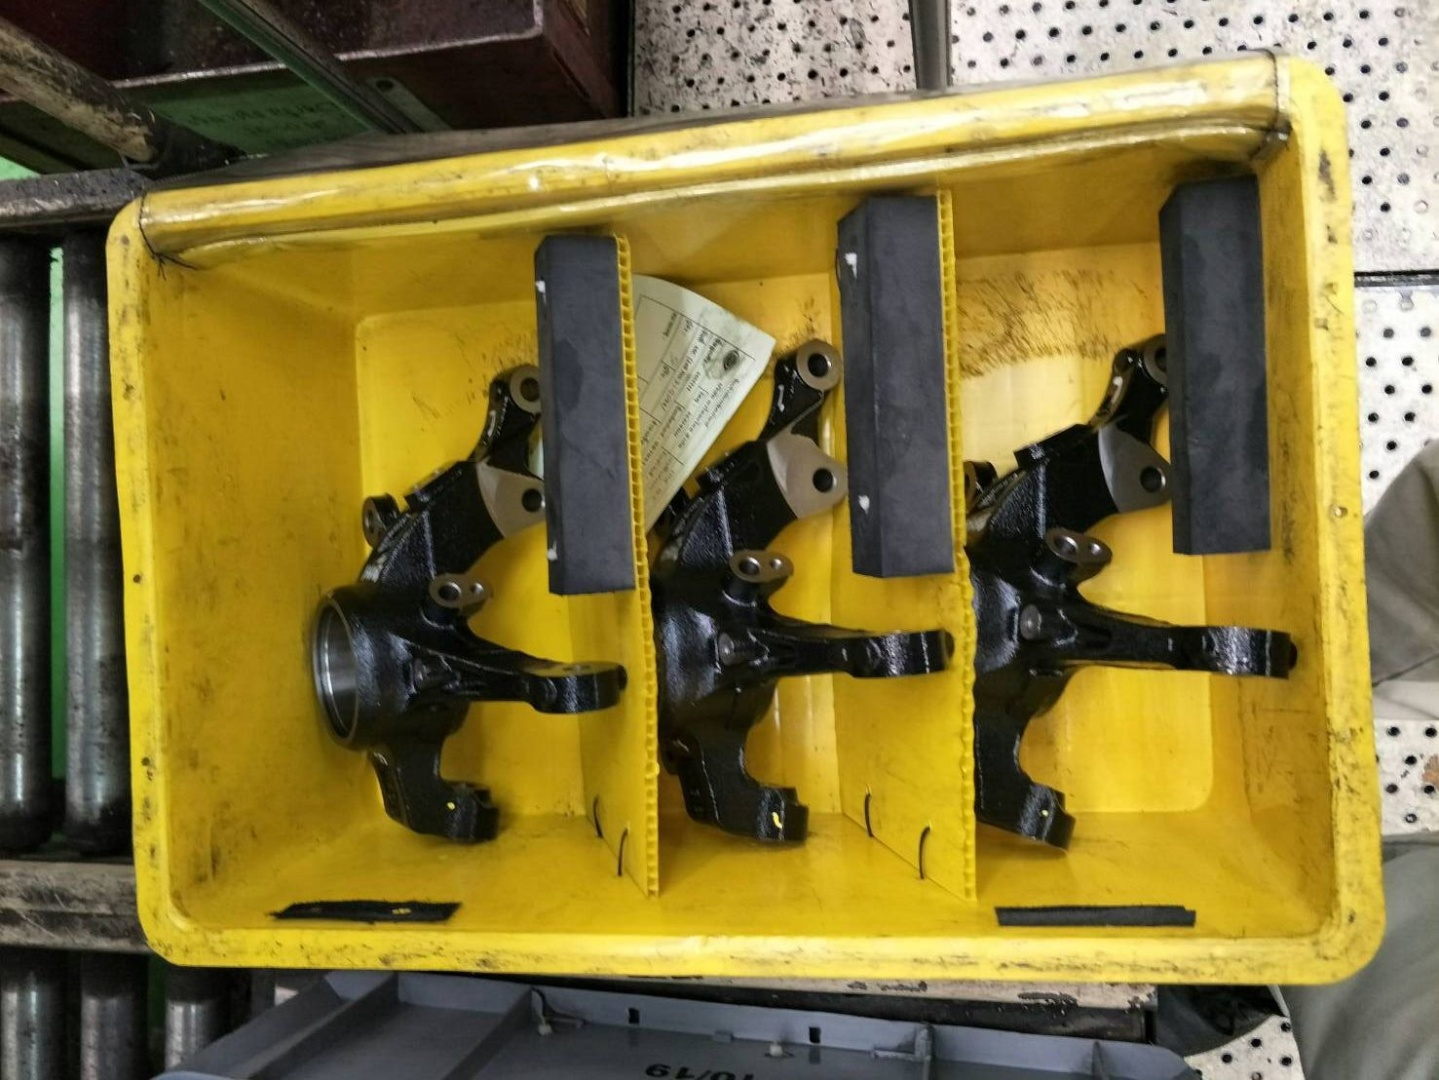abs-lh: (968, 324, 1306, 866), (643, 332, 968, 852), (296, 357, 633, 857)
